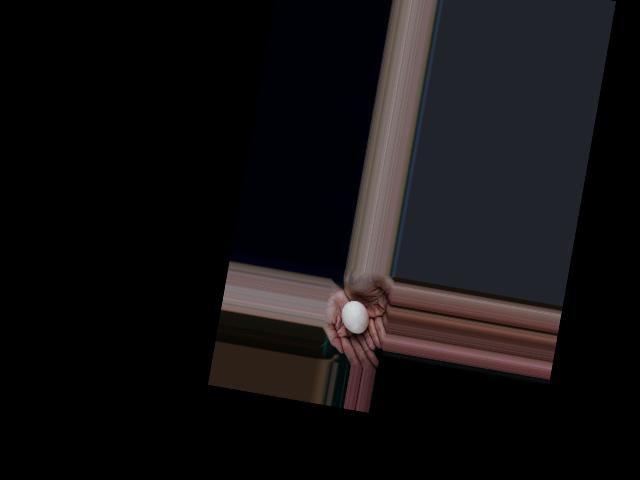egg: (339, 299, 371, 335)
